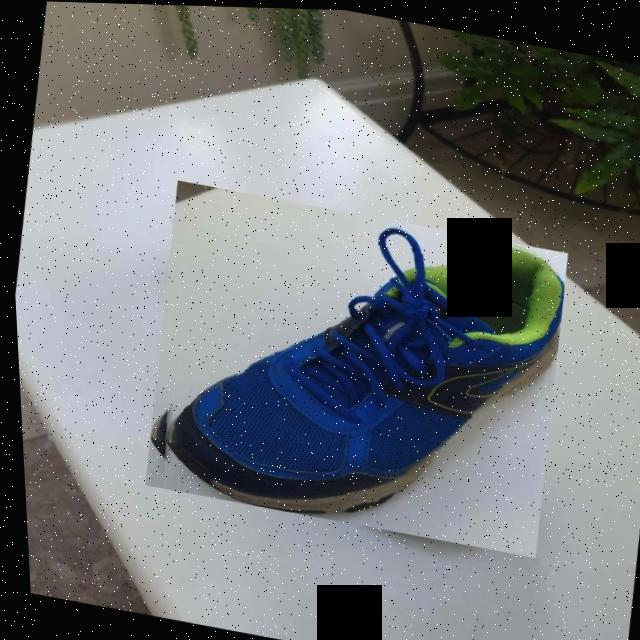shoe: (127, 178, 578, 556)
